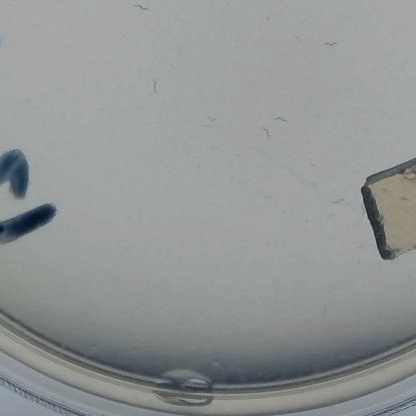worm: (190, 107, 222, 130), (141, 66, 165, 96), (268, 112, 293, 128), (327, 192, 347, 210), (283, 25, 304, 42), (252, 124, 275, 139), (254, 184, 273, 202), (322, 37, 345, 51), (129, 0, 154, 12), (315, 303, 335, 316)
